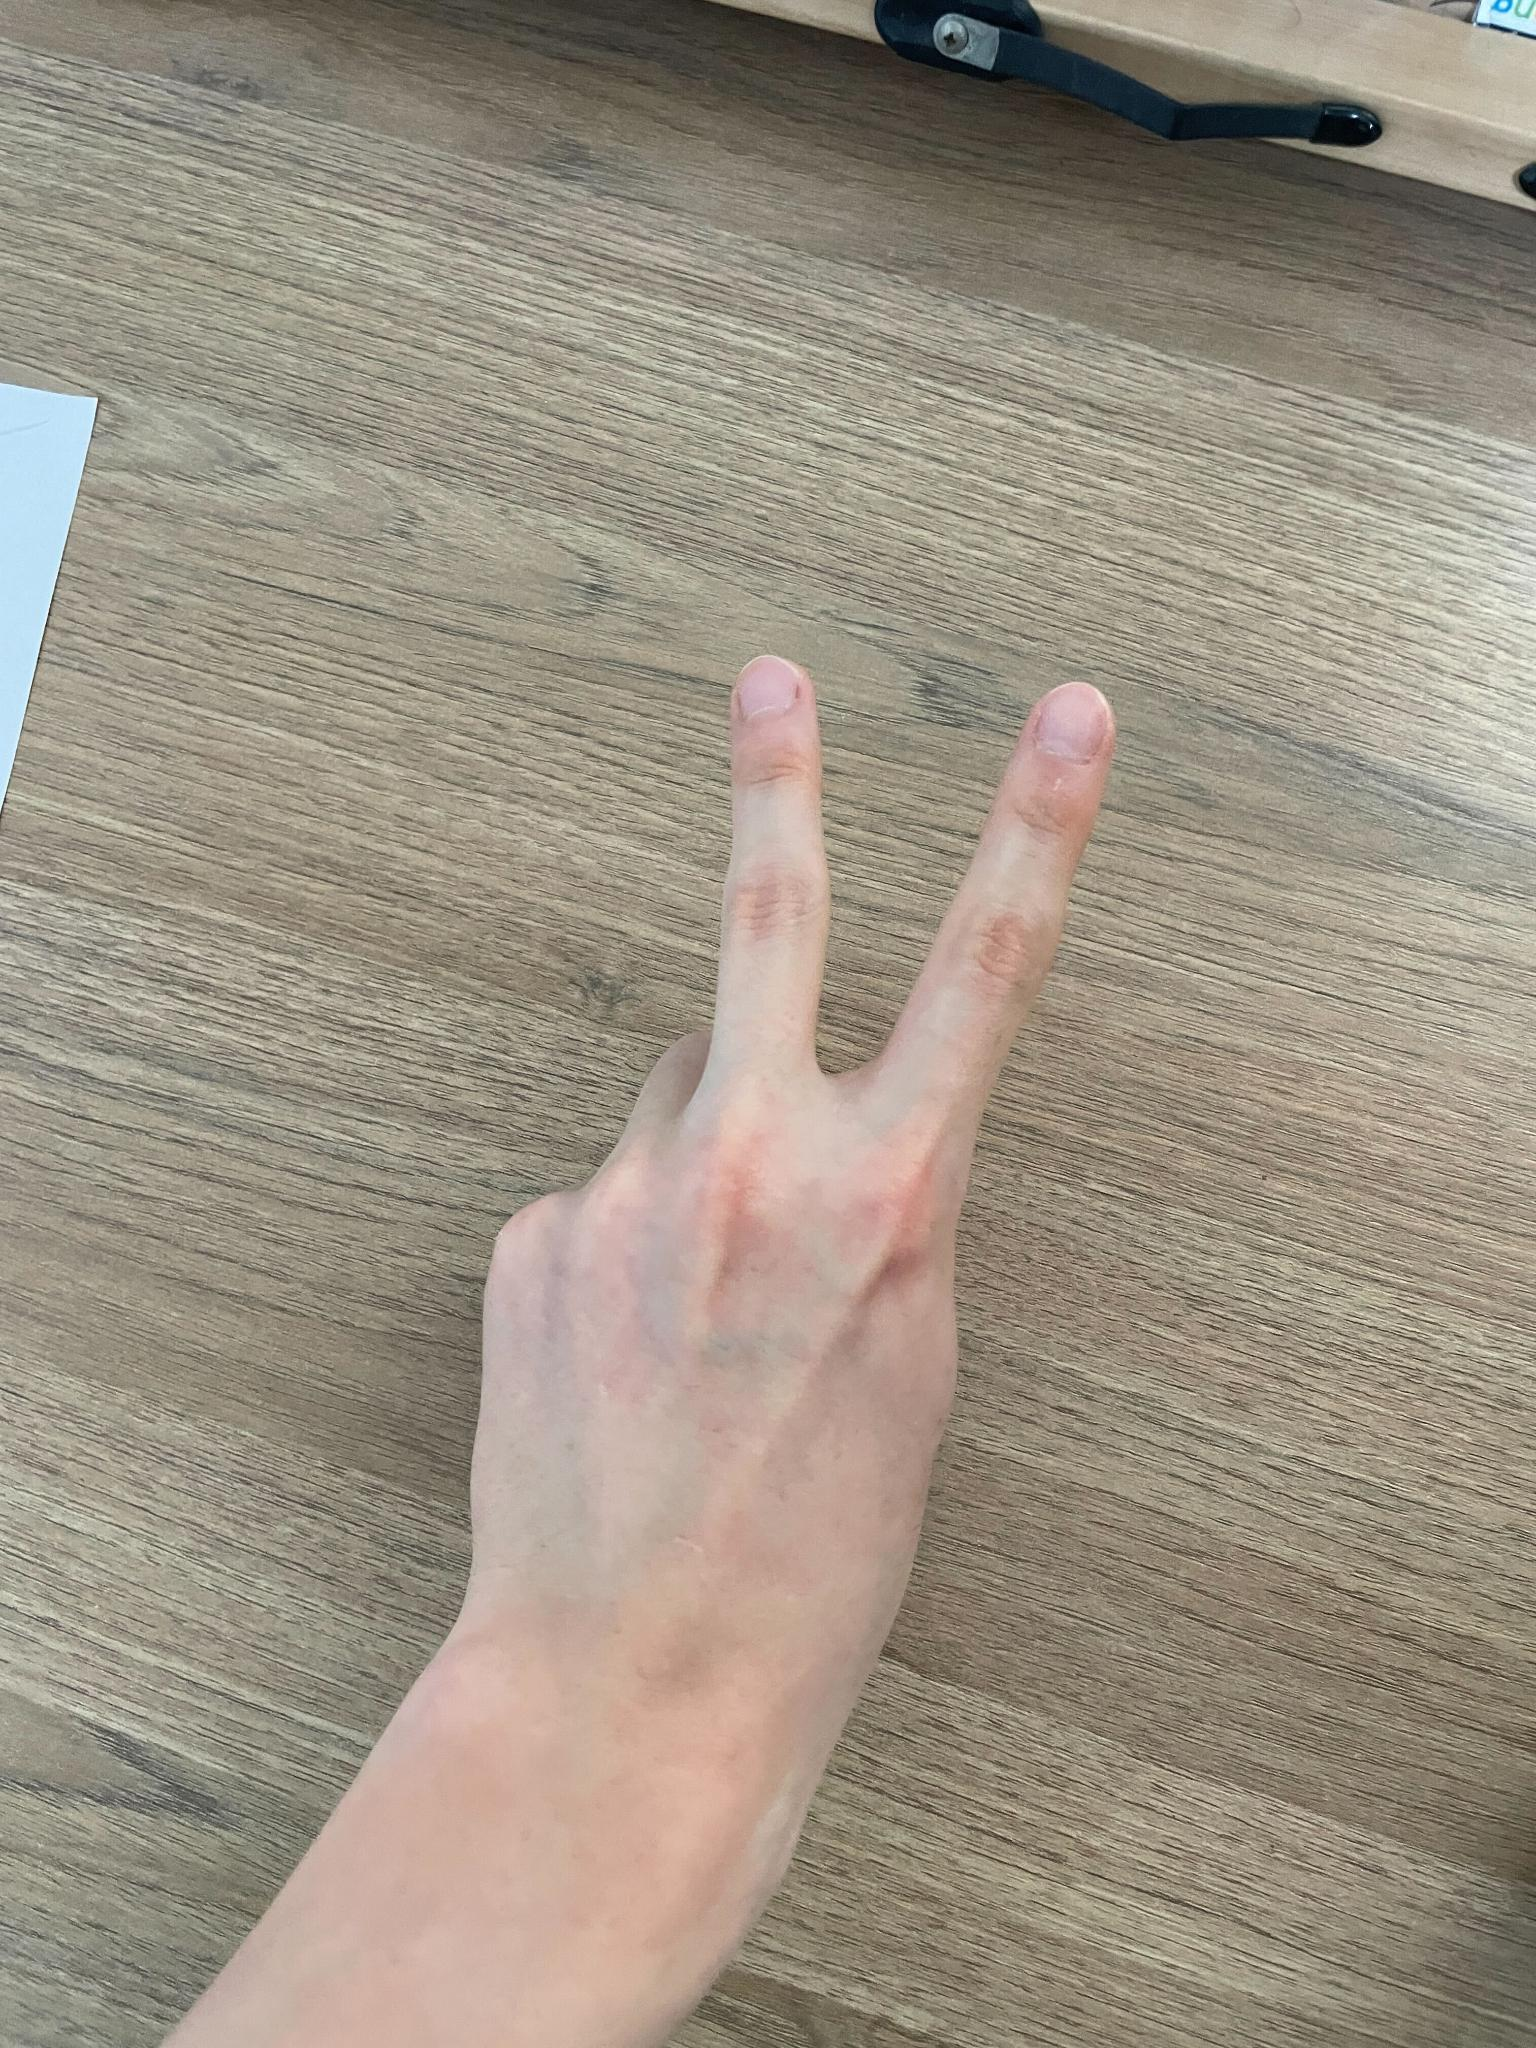v: (447, 658, 1120, 1829)
